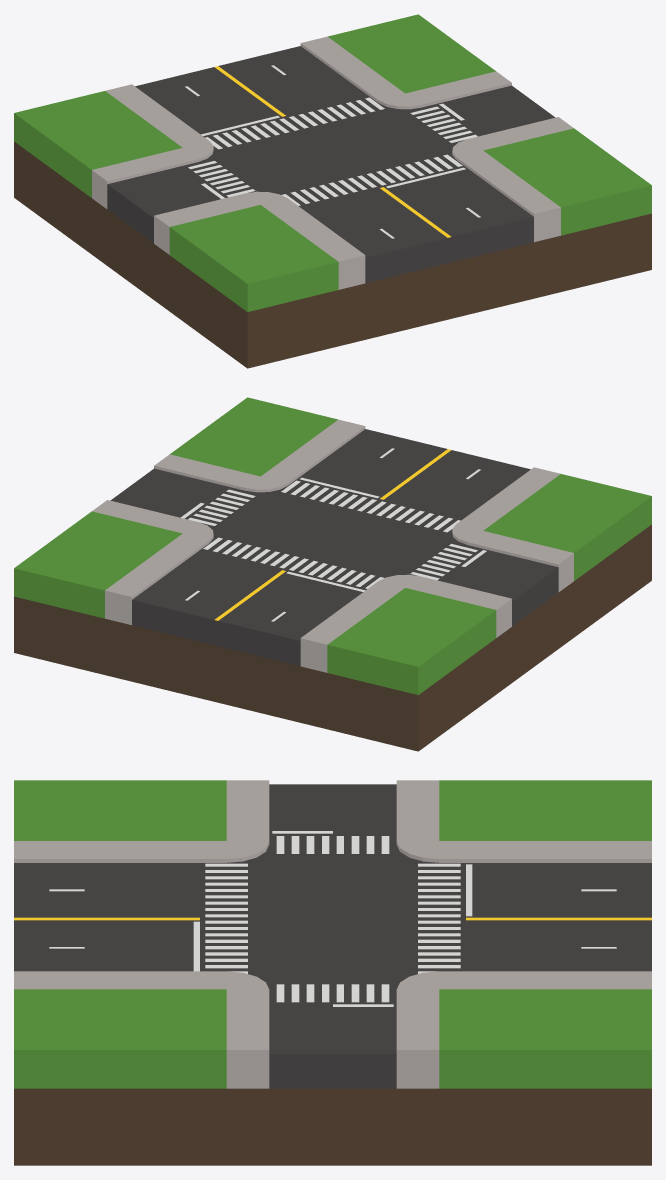
File: tile-road-mainroad-intersection.glb
3 views of the same model, one above another, from view 1: azimuth 30°, elevation 25°; view 2: azimuth 150°, elevation 25°; view 3: azimuth 270°, elevation 25° (orthographic). The views are drawn at different scales.
Visible parts, largest first — view 1: tile-road-mainroad-intersection; view 2: tile-road-mainroad-intersection; view 3: tile-road-mainroad-intersection.
Boxes of the visible parts, bbox=[...] form: tile-road-mainroad-intersection: bbox=[14, 14, 651, 368]; tile-road-mainroad-intersection: bbox=[14, 397, 651, 751]; tile-road-mainroad-intersection: bbox=[14, 780, 651, 1165].
Size of the model in its own units: 30 by 6 by 30.
Materials: 1 (1 with a texture image).
